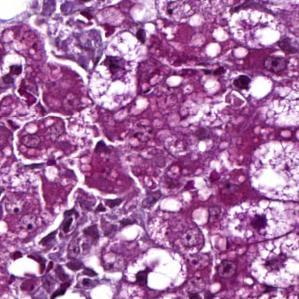ballooning: (87, 29, 150, 112), (224, 197, 293, 246), (248, 135, 294, 202), (246, 235, 295, 292)
